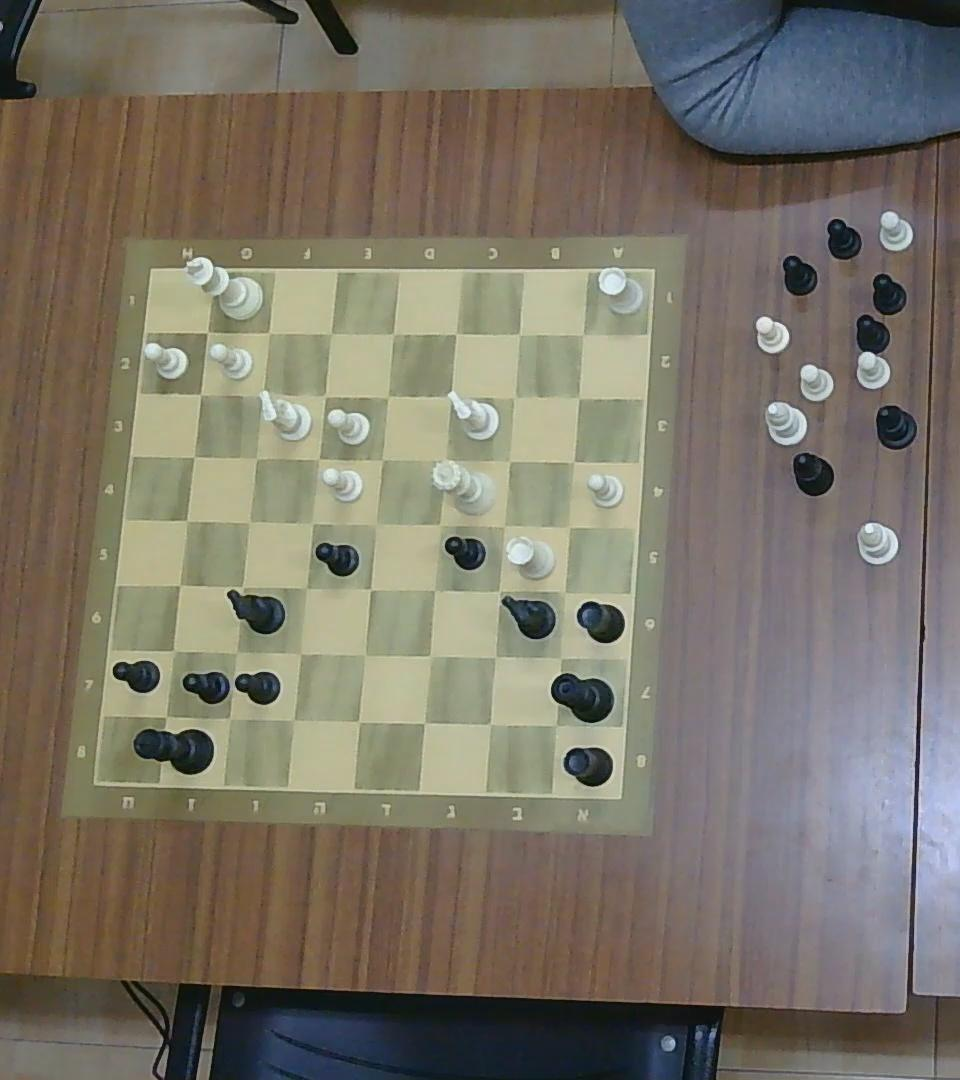xcorner: (215, 703, 241, 731), (411, 708, 437, 735), (153, 702, 179, 728), (280, 705, 305, 732), (167, 572, 192, 598), (477, 711, 503, 736), (417, 643, 442, 669), (543, 712, 568, 738), (352, 642, 377, 667), (346, 707, 370, 733), (482, 645, 506, 670), (236, 508, 259, 534), (431, 448, 455, 472), (175, 507, 198, 532), (288, 640, 311, 665), (318, 321, 341, 346), (224, 639, 247, 663), (376, 384, 399, 408), (364, 512, 387, 536), (558, 514, 581, 538), (162, 639, 185, 663), (294, 575, 317, 599), (421, 578, 444, 602), (188, 381, 211, 405), (427, 512, 450, 536), (438, 384, 461, 408), (492, 513, 515, 536), (196, 320, 218, 344), (182, 445, 204, 468), (300, 512, 323, 534), (381, 322, 403, 345), (371, 447, 393, 470), (444, 322, 466, 345), (487, 579, 510, 601), (251, 383, 273, 406), (258, 320, 279, 344), (245, 446, 267, 468), (230, 576, 252, 598), (548, 647, 571, 668), (563, 449, 584, 471), (308, 447, 328, 470), (509, 323, 530, 344), (360, 577, 380, 599), (553, 582, 575, 602), (499, 449, 518, 471), (504, 386, 524, 406), (315, 384, 334, 405), (573, 324, 592, 344), (570, 388, 589, 407)
